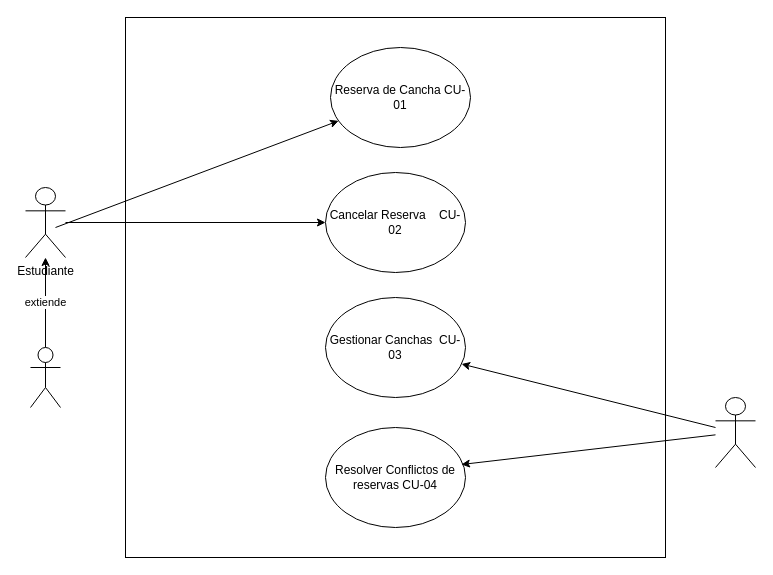
The diagram is 773 pixels wide and 575 high, and some of its shapes have lost their labels. The centre of each missing label's shape, as x and y in pixels:
"Actor" belongs at point (735, 432).
"Capitan" belongs at point (45, 377).
